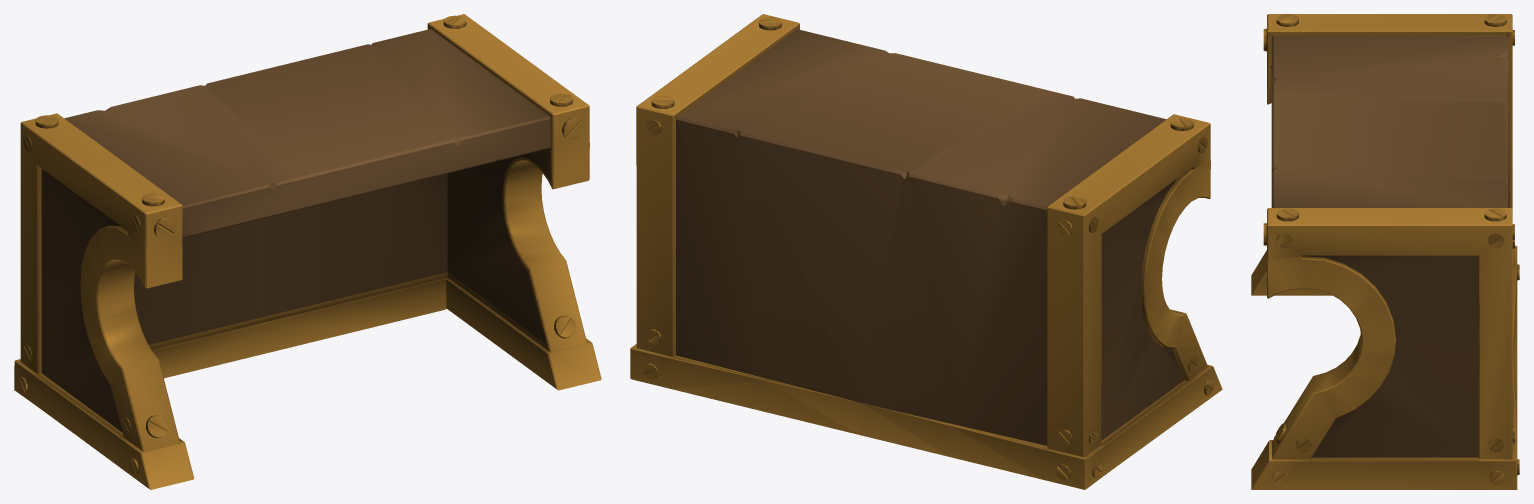
Rendered from obj_tableSmall.FBX.
3 views of the same model, side by side, from view 1: azimuth 30°, elevation 25°; view 2: azimuth 150°, elevation 25°; view 3: azimuth 270°, elevation 25° (orthographic). The views are drawn at different scales.
Parts seen in each view (by area): view 1: obj_tableSmall; view 2: obj_tableSmall; view 3: obj_tableSmall.
Part boxes in pixels (x1=…): obj_tableSmall: x1=14, y1=14, x2=601, y2=489; obj_tableSmall: x1=630, y1=14, x2=1222, y2=489; obj_tableSmall: x1=1251, y1=14, x2=1519, y2=489.
Size of the model in its own units: 3.44 by 1.97 by 1.8.
